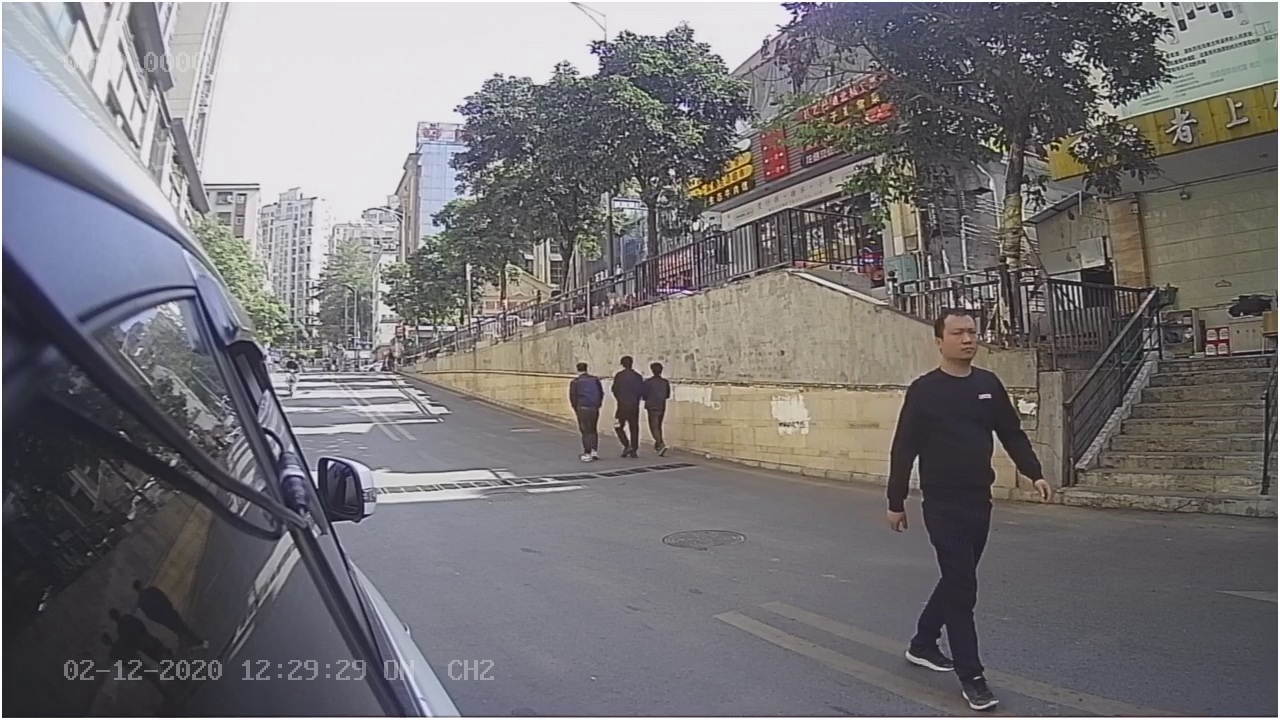person: (878, 301, 1057, 709)
